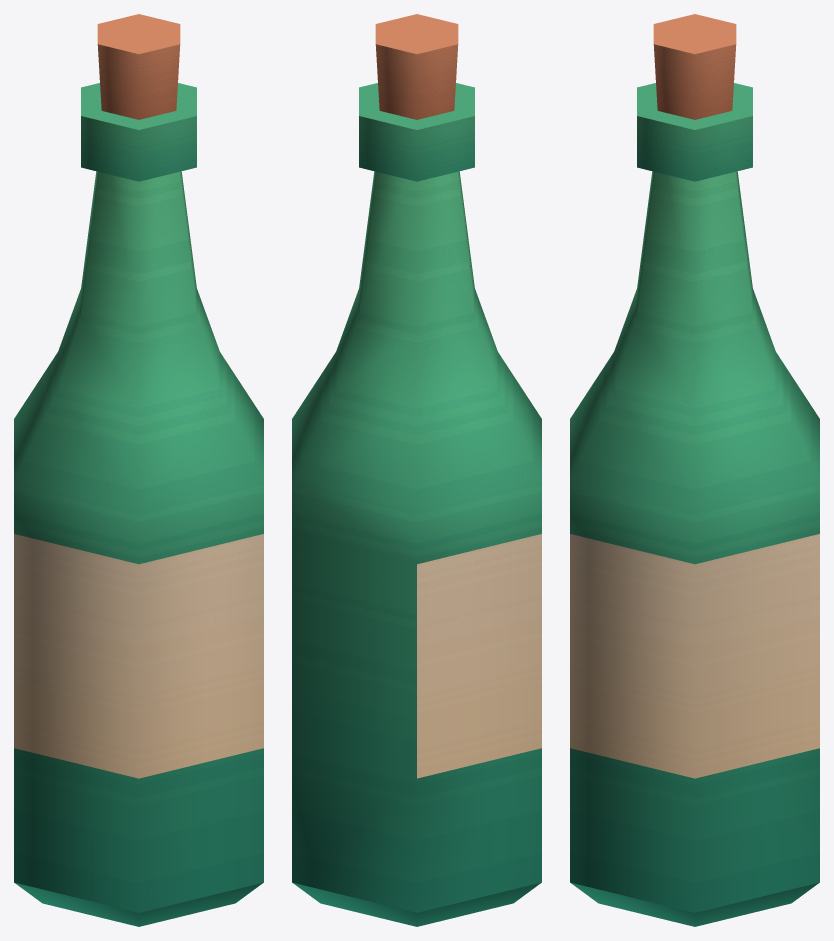
File: wine-white.glb
3 views of the same model, side by side, from view 1: azimuth 30°, elevation 25°; view 2: azimuth 150°, elevation 25°; view 3: azimuth 270°, elevation 25° (orthographic).
Visible parts, largest first — view 1: wine-white; view 2: wine-white; view 3: wine-white.
Part boxes in pixels (left/top/right/bottom): wine-white: left=14, top=14, right=263, bottom=926; wine-white: left=292, top=14, right=541, bottom=926; wine-white: left=570, top=14, right=819, bottom=926.
Size of the model in its own units: 0.2028 by 0.6556 by 0.1756.
Materials: 1 (1 with a texture image).
